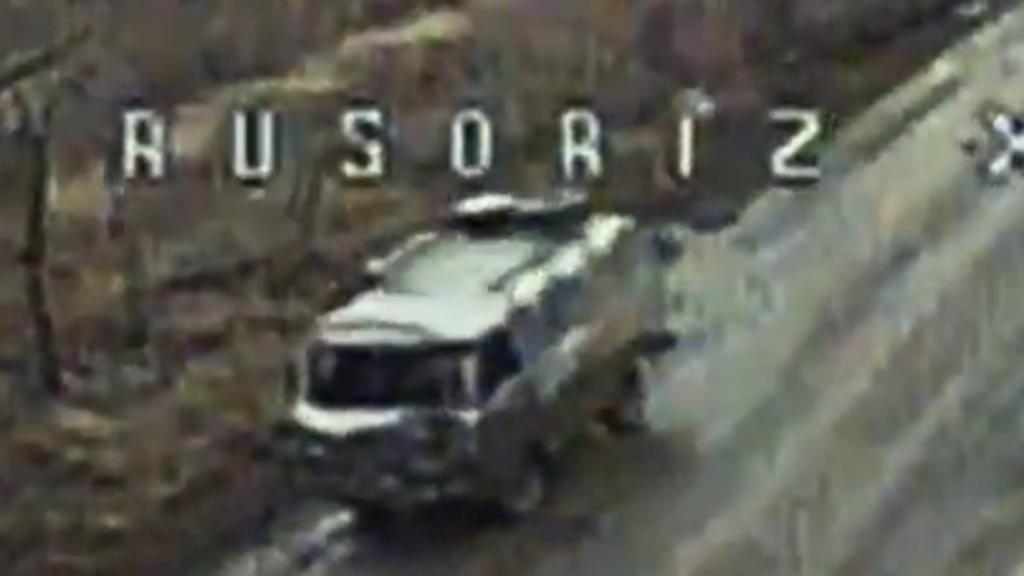CAR: (282, 194, 676, 510)
